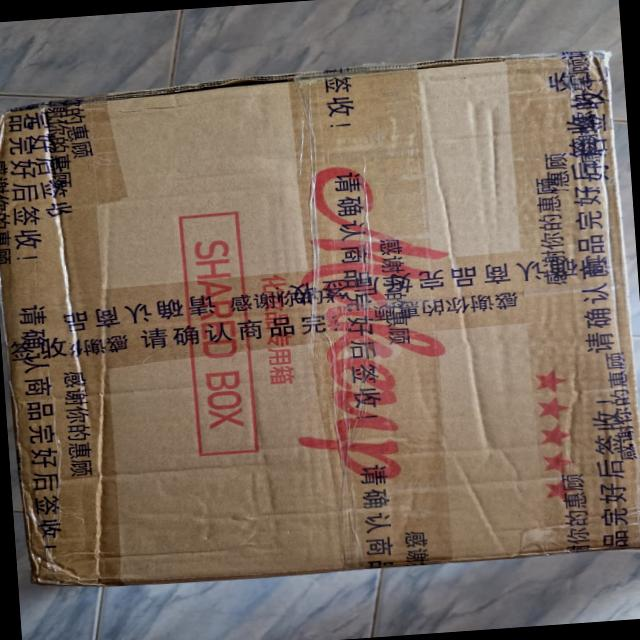carton_box: (0, 46, 640, 609)
